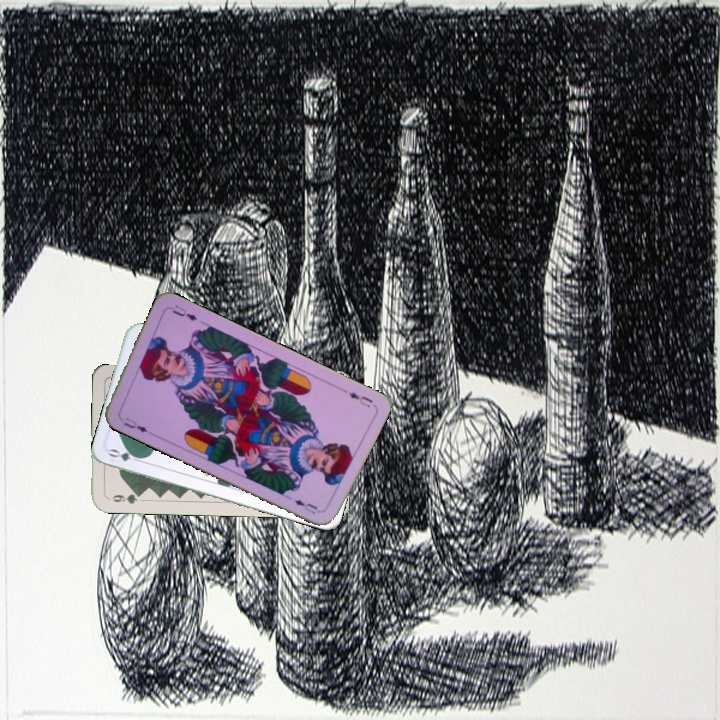EU: (119, 413, 151, 435), (345, 388, 375, 410)
G9: (104, 489, 145, 506)
GO: (105, 444, 146, 465)
